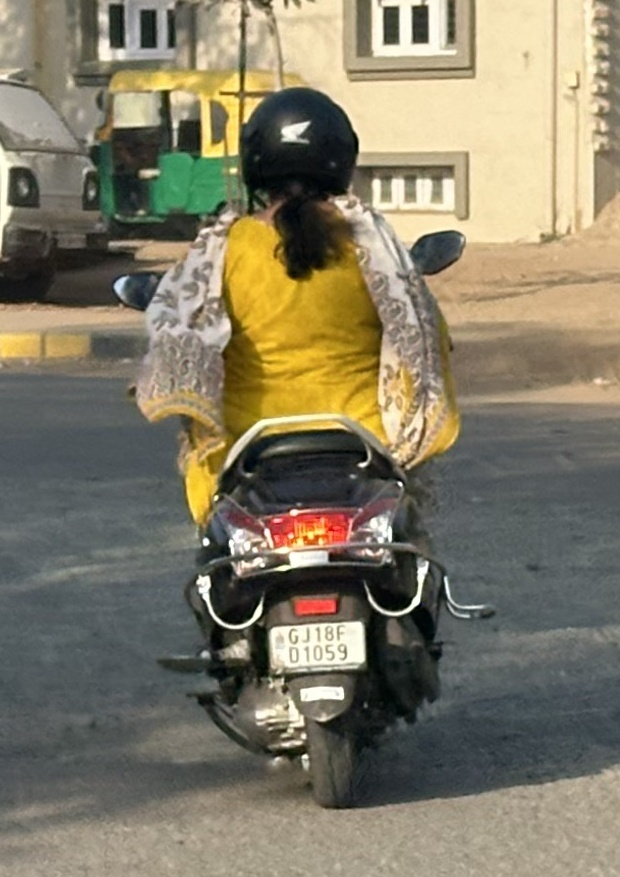BikeWithRider: (102, 77, 508, 818)
Helmet: (228, 77, 371, 220)
